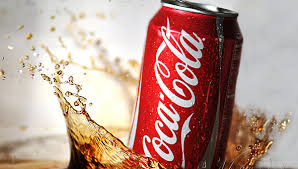coke: (142, 1, 234, 169)
